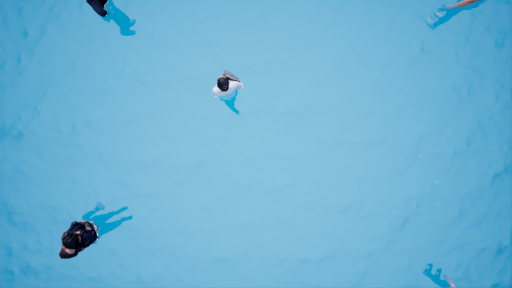person: (55, 207, 139, 260), (200, 66, 251, 112)
